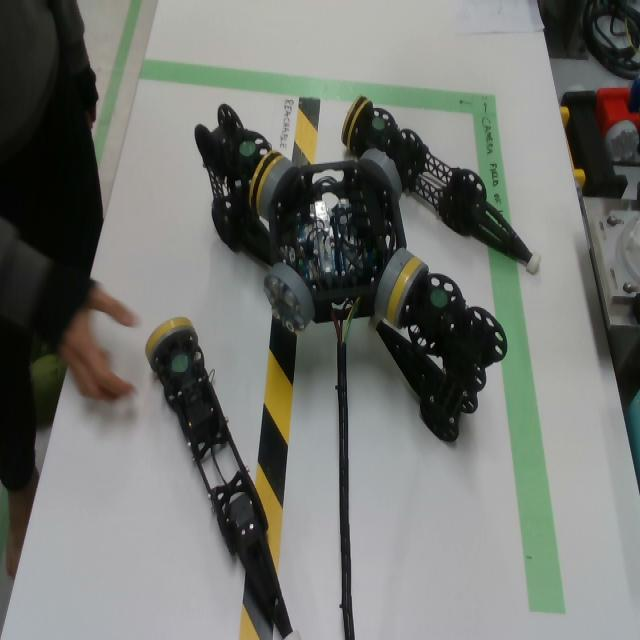body: (270, 161, 407, 324)
body_connector: (262, 263, 315, 332), (375, 248, 414, 316), (358, 148, 403, 200), (260, 159, 298, 219)
leg: (145, 317, 302, 640), (341, 96, 541, 275), (368, 257, 508, 443), (194, 103, 282, 265)
leg_connector: (385, 257, 429, 328), (145, 317, 195, 364), (250, 151, 284, 215), (341, 96, 371, 149)
leg_marker: (431, 289, 447, 308), (172, 355, 188, 372), (239, 141, 255, 156), (372, 117, 384, 129)
